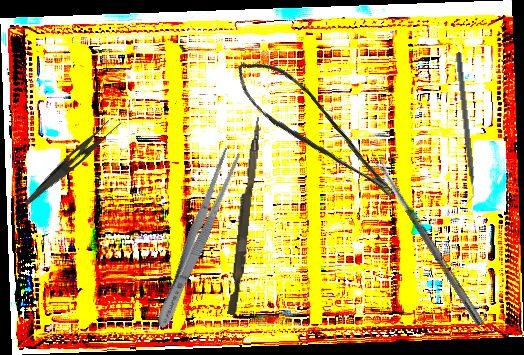Chopper: (447, 52, 478, 206)
Dressing Forceps: (150, 146, 244, 332), (23, 110, 124, 216)
Micro Scissor: (226, 42, 402, 225)
Pusher: (227, 116, 262, 316)
Surgical Spoon: (374, 156, 485, 327)
